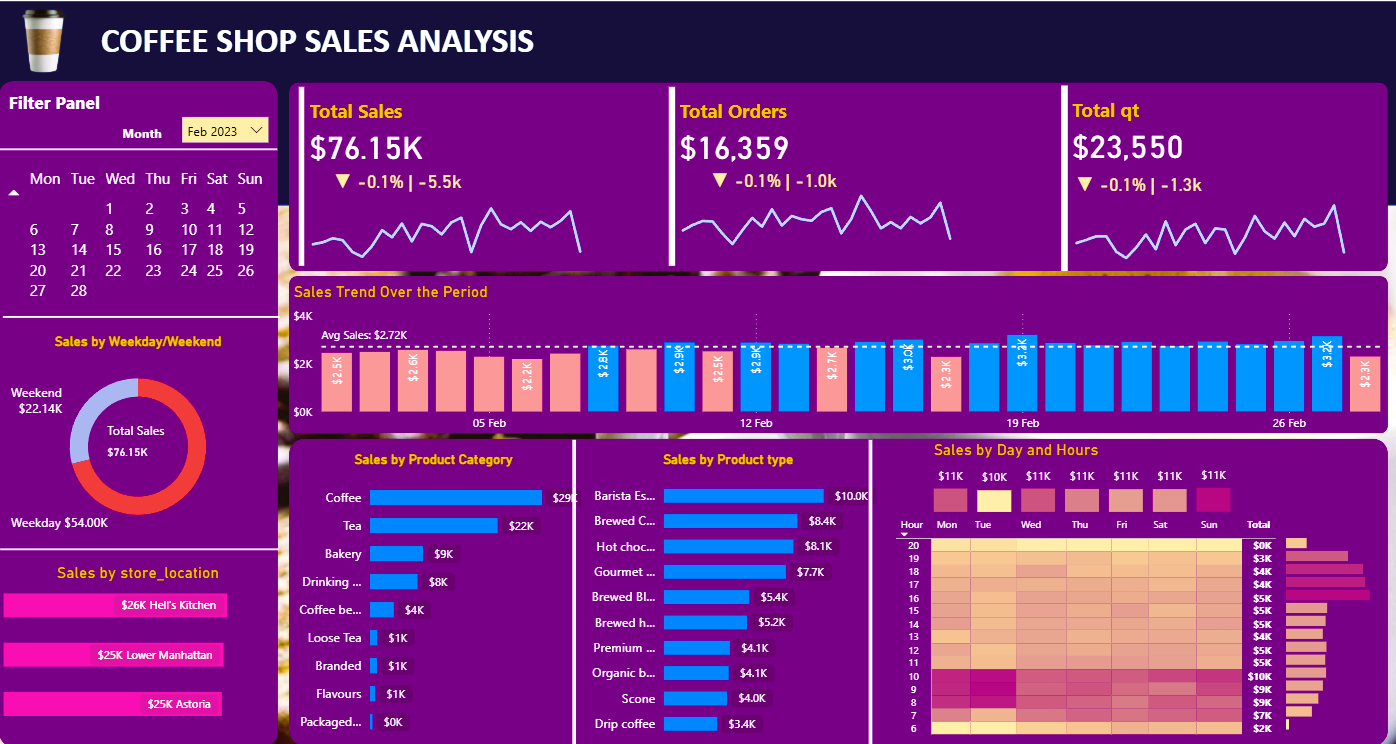

This screenshot's page, from the dashboard's own definition file:
{"tool":"powerbi","page":{"name":"Page 1","canvas":[1500,800],"ordinal":0},"visuals":[{"type":"shape","box":[0,0,1500,219.5],"z":0},{"type":"shape","box":[0,85.2,299.1,714],"z":1000},{"type":"shape","box":[310.4,86.8,1178.7,202.6],"z":2000},{"type":"slicer","title":"Month","fields":{"Values":["Date Table.Month Year"]},"box":[186.5,114.2,112.6,54.7],"z":3000},{"type":"cardVisual","fields":{"Data":["Coffee Shop Sales1.Total Sales"]},"box":[310.4,86.8,328,202.6],"z":4000},{"type":"card","fields":{"Values":["Coffee Shop Sales1.MOM & diff"]},"box":[321.6,143.1,210.7,101.3],"z":5000},{"type":"cardVisual","fields":{"Data":["Coffee Shop Sales1.Total Orders"]},"box":[707.5,86.8,328,202.6],"z":6000},{"type":"lineChart","fields":{"Category":["Date Table.Date Hierarchy.Date"],"Y":["Coffee Shop Sales1.Total Sales"]},"box":[321.6,194.6,316.8,96.5],"z":7000},{"type":"lineChart","fields":{"Category":["Date Table.Date Hierarchy.Date"],"Y":["Coffee Shop Sales1.Total Orders"]},"box":[718.8,193,316.8,96.5],"z":8000},{"type":"card","fields":{"Values":["Coffee Shop Sales1.ord MOM & diff"]},"box":[725.2,141.5,210.7,101.3],"z":9000},{"type":"cardVisual","fields":{"Data":["Coffee Shop Sales1.Total qt"]},"box":[1128.9,85.2,328,209],"z":10000},{"type":"lineChart","fields":{"Category":["Date Table.Date Hierarchy.Date"],"Y":["Coffee Shop Sales1.Total qt"]},"box":[1140.1,188.1,316.8,96.5],"z":11000},{"type":"card","fields":{"Values":["Coffee Shop Sales1.qt MOM & diff"]},"box":[1116,146.3,210.7,101.3],"z":12000},{"type":"textbox","box":[90.1,14.5,503.3,57.9],"z":13000},{"type":"pivotTable","fields":{"Columns":["Date Table.Day"],"Values":["Min(Date Table.day number)"],"Rows":["Date Table.week number"]},"box":[0,174.4,298.4,179.9],"z":14000},{"type":"shape","box":[4.1,322.9,297.1,31.3],"z":15000},{"type":"shape","box":[0,143.1,298.4,31.3],"z":16000},{"type":"donutChart","title":"Sales by Weekday/Weekend","fields":{"Y":["Coffee Shop Sales1.Total Sales"],"Category":["Date Table.Weekday/Weekend"]},"box":[0,357,298.4,226.2],"z":17000},{"type":"cardVisual","fields":{"Data":["Coffee Shop Sales1.Total Sales"]},"box":[99.5,427.9,106.3,85.8],"z":18000},{"type":"shape","box":[1.4,572.3,298.4,31.3],"z":19000},{"type":"clusteredBarChart","title":"Sales by store_location","fields":{"Y":["Coffee Shop Sales1.Total Sales"],"Category":["Coffee Shop Sales1.store_location"]},"box":[0,603.7,298.4,173.1],"z":20000},{"type":"shape","box":[310.4,469.6,1178.7,329.7],"z":21000},{"type":"clusteredBarChart","title":"Sales by Product Category","fields":{"Y":["Coffee Shop Sales1.Total Sales"],"Category":["Coffee Shop Sales1.product_category"]},"box":[302.3,482.4,326.4,316.8],"z":22000},{"type":"shape","box":[310.7,294.3,1178.7,169],"z":23000},{"type":"clusteredColumnChart","title":"Sales Trend Over the Period","fields":{"Y":["Coffee Shop Sales1.Total Sales"],"Category":["Coffee Shop Sales1.transaction_date"]},"box":[310.7,301.1,1178.7,169],"z":24000},{"type":"clusteredBarChart","title":"Sales by Product type","fields":{"Y":["Coffee Shop Sales1.Total Sales"],"Category":["Coffee Shop Sales1.product_type"]},"box":[617.5,482.4,328,316.8],"z":25000},{"type":"shape","box":[913.4,471.2,43.4,328],"z":26000},{"type":"shape","box":[595,471.2,43.4,328],"z":27000},{"type":"pivotTable","fields":{"Columns":["Date Table.Day"],"Rows":["Coffee Shop Sales1.Hour"],"Values":["Coffee Shop Sales1.Total Sales"]},"box":[956.8,550,439,249.3],"z":28000},{"type":"barChart","fields":{"Y":["Coffee Shop Sales1.Total Sales"],"Category":["Coffee Shop Sales1.Hour"]},"box":[1374.9,562.8,102.9,223.5],"z":29000},{"type":"columnChart","title":"Sales by Day and Hours","fields":{"Category":["Date Table.Day"],"Y":["Coffee Shop Sales1.Total Sales"]},"box":[997,471.2,329.7,83.6],"z":30000},{"type":"textbox","box":[127,127,78.8,27.3],"z":30001},{"type":"textbox","box":[4.8,91.7,109.3,35.4],"z":30002},{"type":"image","box":[4.8,0,85.2,86.8],"z":30003}]}

Visuals, with their boxes in screenshot pixels (x1, y1, x2, y2), scaled from the page's 1500x800 canvas onto the 1396x744 screenshot:
shape: locate(0, 0, 1395, 204)
shape: locate(0, 79, 278, 743)
shape: locate(289, 81, 1386, 269)
"Month" slicer: locate(174, 106, 278, 157)
cardVisual - Coffee Shop Sales1.Total Sales: locate(289, 81, 594, 269)
card - Coffee Shop Sales1.MOM & diff: locate(299, 133, 495, 227)
cardVisual - Coffee Shop Sales1.Total Orders: locate(658, 81, 964, 269)
lineChart - Date Table.Date Hierarchy.Date x Coffee Shop Sales1.Total Sales: locate(299, 181, 594, 271)
lineChart - Date Table.Date Hierarchy.Date x Coffee Shop Sales1.Total Orders: locate(669, 179, 964, 269)
card - Coffee Shop Sales1.ord MOM & diff: locate(675, 132, 871, 226)
cardVisual - Coffee Shop Sales1.Total qt: locate(1051, 79, 1356, 274)
lineChart - Date Table.Date Hierarchy.Date x Coffee Shop Sales1.Total qt: locate(1061, 175, 1356, 265)
card - Coffee Shop Sales1.qt MOM & diff: locate(1039, 136, 1235, 230)
textbox: locate(84, 13, 552, 67)
pivotTable - Date Table.Day x Min(Date Table.day number): locate(0, 162, 278, 329)
shape: locate(4, 300, 280, 329)
shape: locate(0, 133, 278, 162)
"Sales by Weekday/Weekend" donutChart: locate(0, 332, 278, 542)
cardVisual - Coffee Shop Sales1.Total Sales: locate(93, 398, 192, 478)
shape: locate(1, 532, 279, 561)
"Sales by store_location" clusteredBarChart: locate(0, 561, 278, 722)
shape: locate(289, 437, 1386, 743)
"Sales by Product Category" clusteredBarChart: locate(281, 449, 585, 743)
shape: locate(289, 274, 1386, 431)
"Sales Trend Over the Period" clusteredColumnChart: locate(289, 280, 1386, 437)
"Sales by Product type" clusteredBarChart: locate(575, 449, 880, 743)
shape: locate(850, 438, 890, 743)
shape: locate(554, 438, 594, 743)
pivotTable - Date Table.Day x Coffee Shop Sales1.Hour: locate(890, 512, 1299, 743)
barChart - Coffee Shop Sales1.Total Sales x Coffee Shop Sales1.Hour: locate(1280, 523, 1375, 731)
"Sales by Day and Hours" columnChart: locate(928, 438, 1235, 516)
textbox: locate(118, 118, 192, 143)
textbox: locate(4, 85, 106, 118)
image: locate(4, 0, 84, 81)
